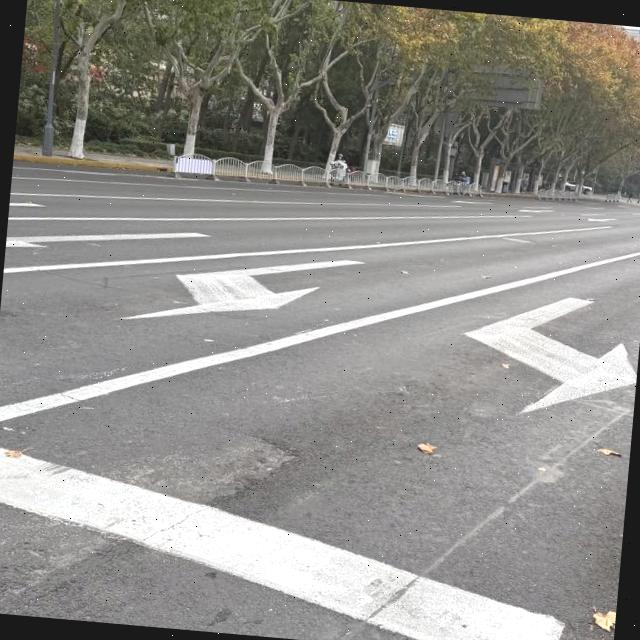curb: (13, 153, 171, 173)
